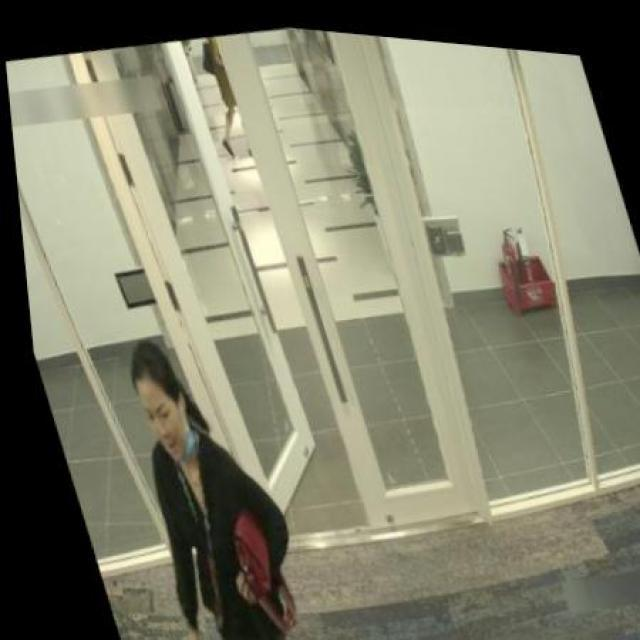hairnet: (130, 385, 193, 463)
